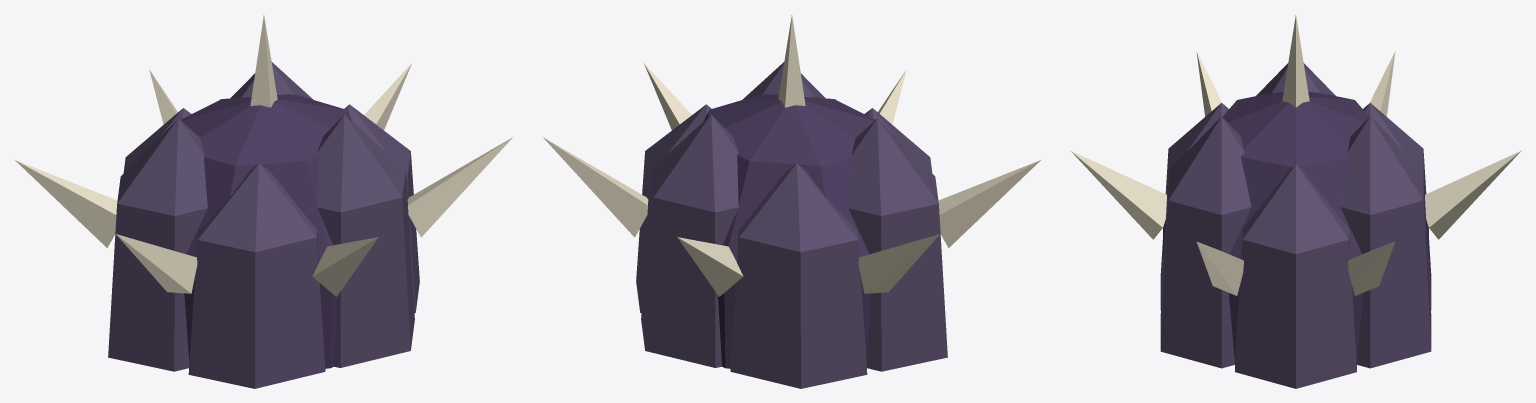
Rendered from env_r4_thorn_bush.glb.
3 views of the same model, side by side, from view 1: azimuth 30°, elevation 25°; view 2: azimuth 150°, elevation 25°; view 3: azimuth 270°, elevation 25° (orthographic).
Visible parts, largest first — view 1: env_r4_thorn_bush; view 2: env_r4_thorn_bush; view 3: env_r4_thorn_bush.
Boxes of the visible parts, x1,y1,x2,y2 form: env_r4_thorn_bush: (15, 15, 512, 388); env_r4_thorn_bush: (543, 15, 1040, 388); env_r4_thorn_bush: (1070, 15, 1521, 388).
Bounding box in the file's own units: 1.5 × 1.1 × 1.5.
Materials: 1 (1 with a texture image).
